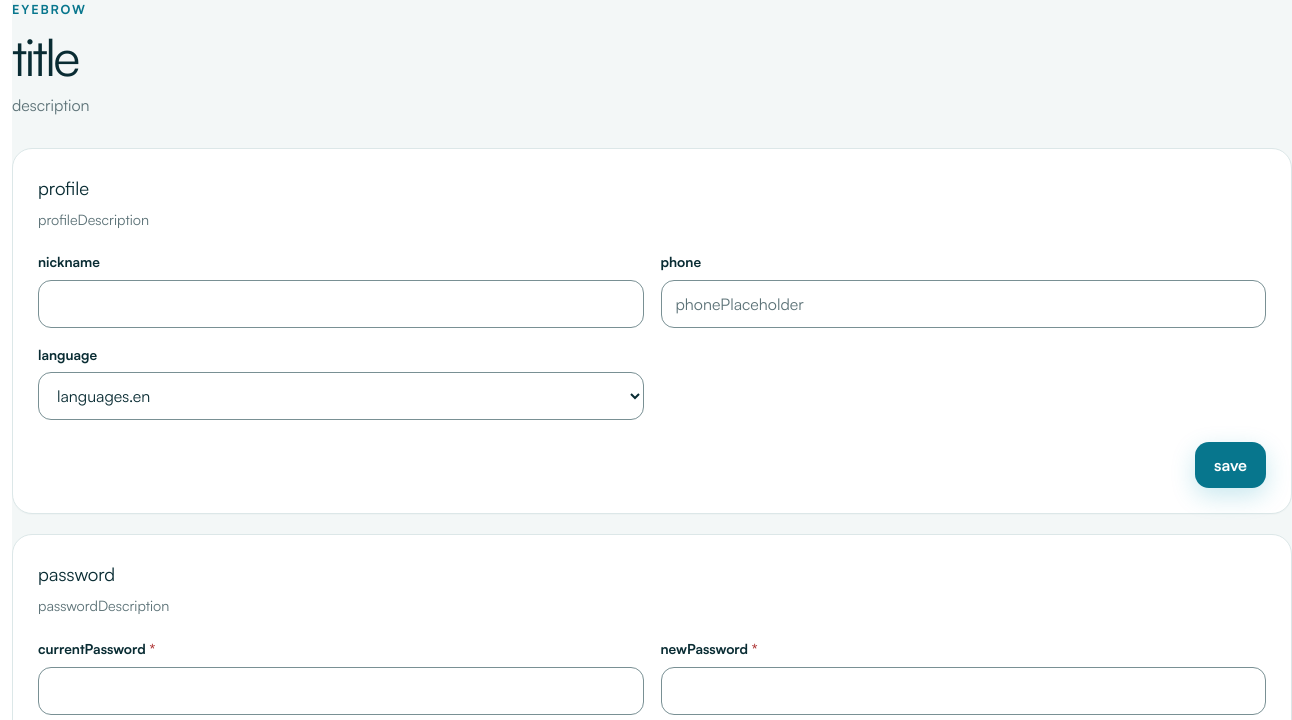
Test: the settings password card › does not send a change whose confirmation does not match
Type "the old one" into the password field labelled "currentPassword" at [341, 690], box 38,666 -> 644,714
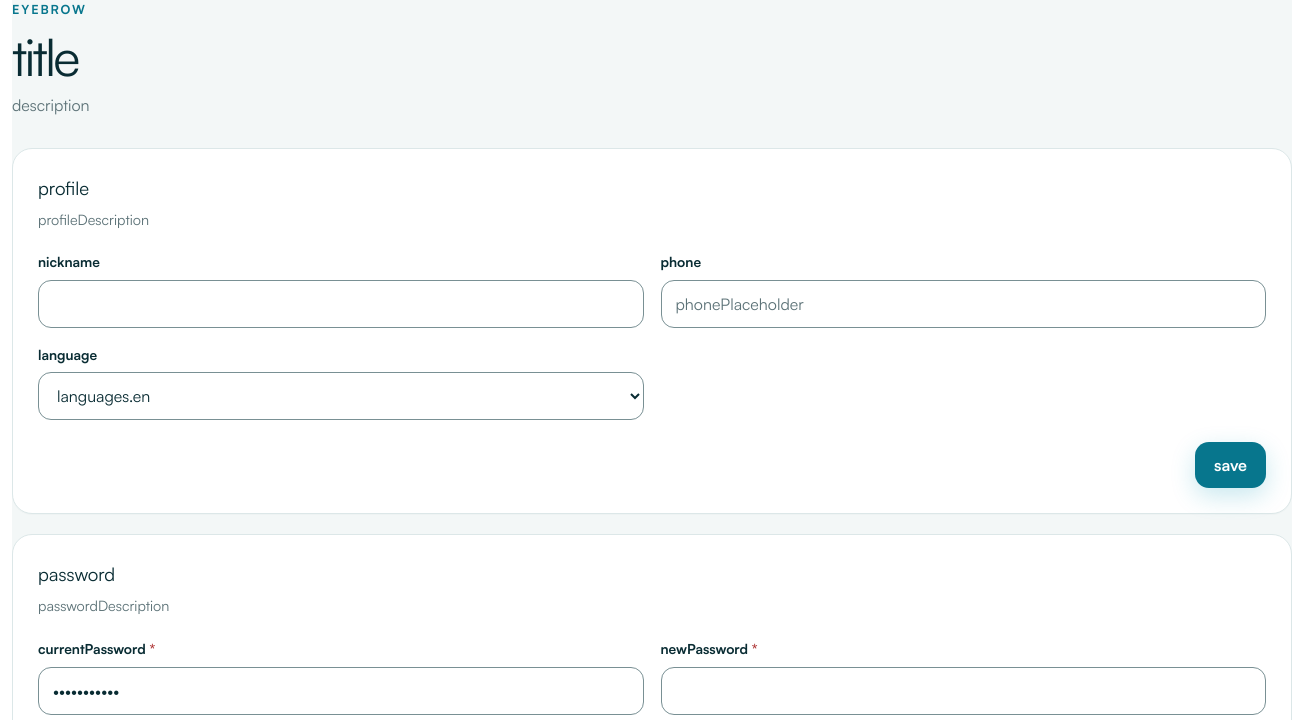
Type "a longer new one" into the password field labelled "newPassword" at [963, 690], box 660,666 -> 1266,714
(page scrolled)
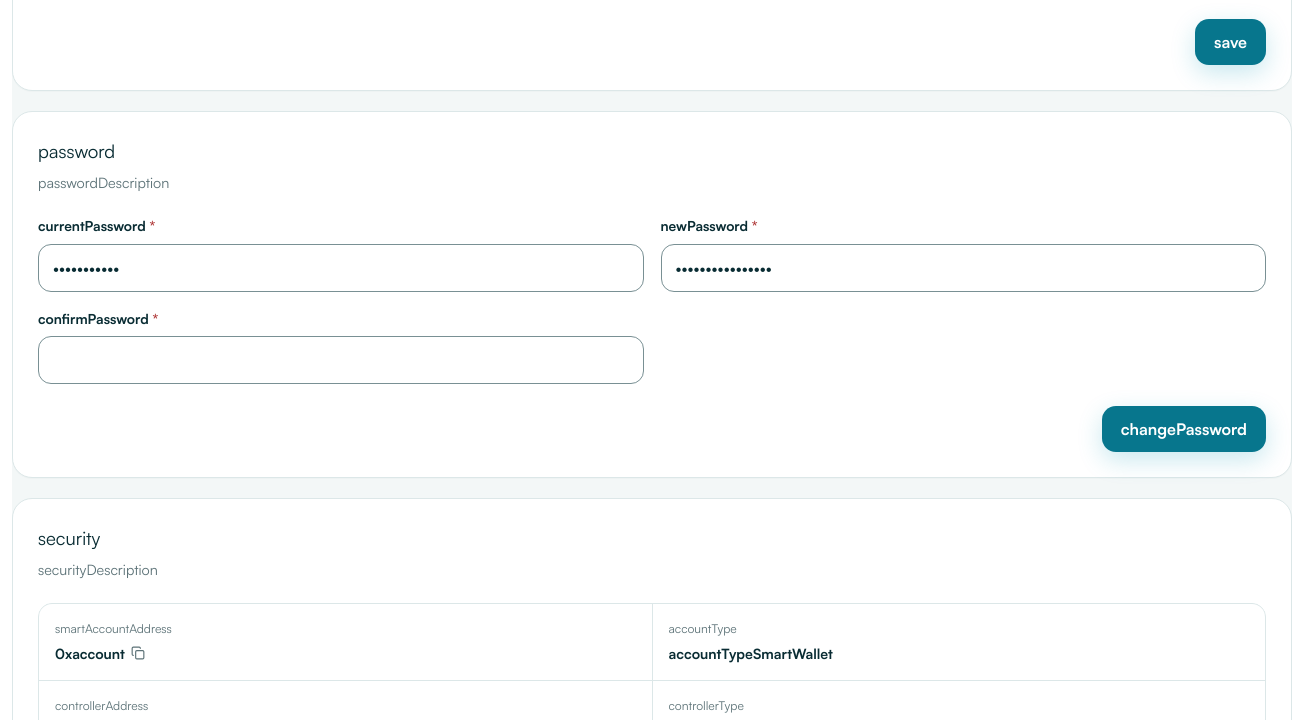
Type "a different one" into the password field labelled "confirmPassword" at [341, 360], box 38,336 -> 644,384
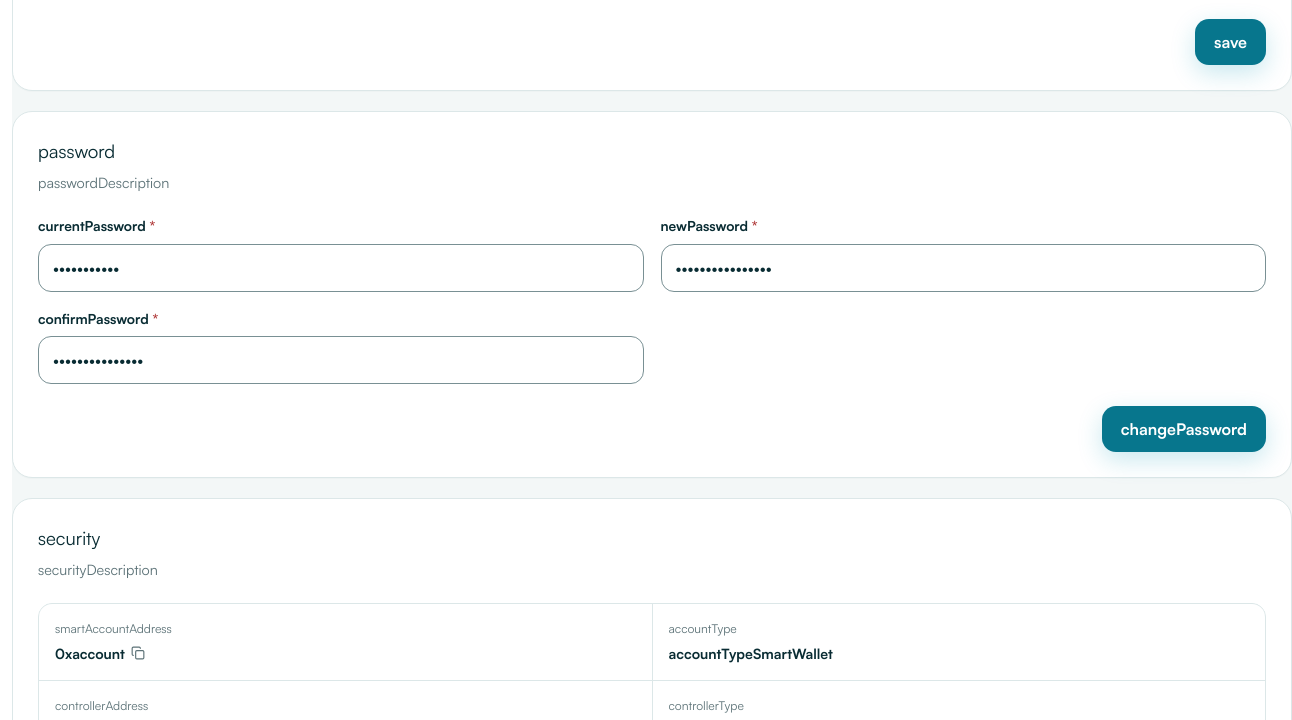
Click the button "changePassword" at [1184, 429], box 1102,406 -> 1266,452
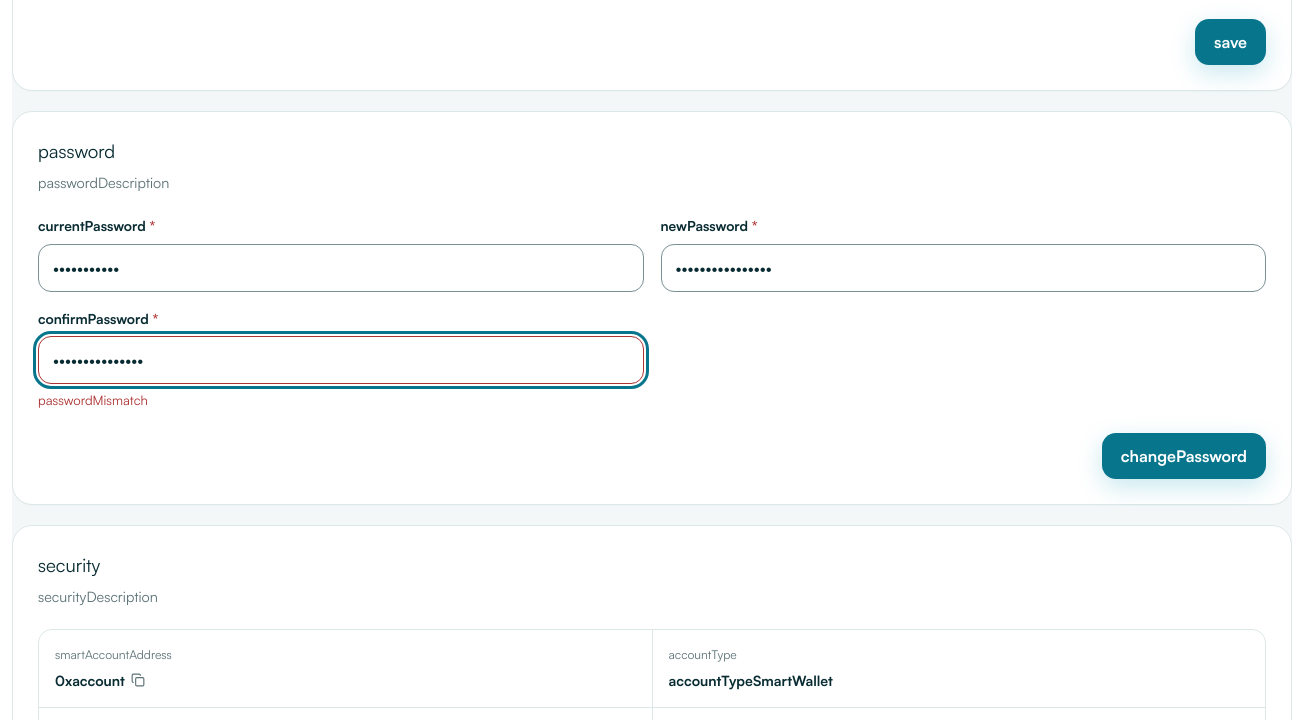
expect the message "passwordMismatch" is shown: met, box 38,392 -> 148,408
